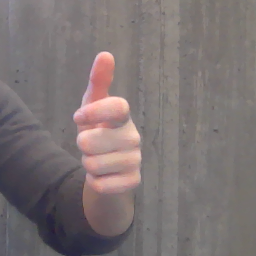G: (68, 49, 146, 194)
